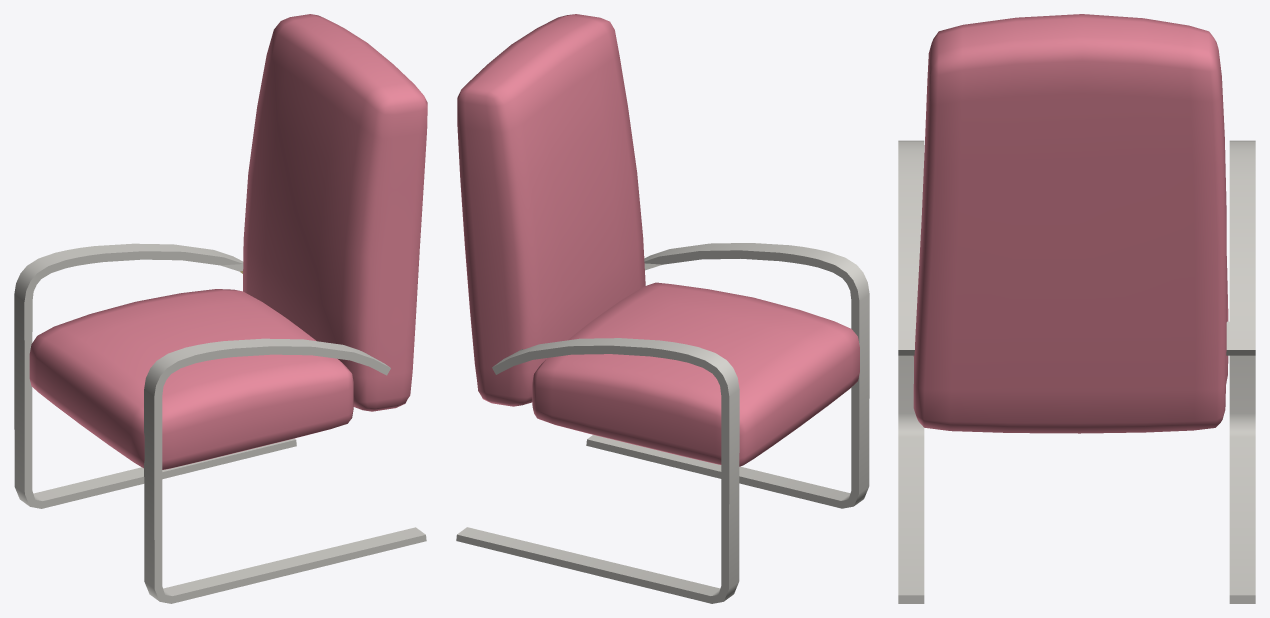
Rendered from SM_chair.fbx.
3 renders of one model, left to right at view 1: azimuth 30°, elevation 25°; view 2: azimuth 150°, elevation 25°; view 3: azimuth 270°, elevation 25°, orthographic. The views are drawn at different scales.
Visible parts, largest first — view 1: SM_chair; view 2: SM_chair; view 3: SM_chair.
Boxes of the visible parts, box(x1,y1,x2,y2) form: SM_chair: box(14, 14, 427, 603); SM_chair: box(456, 14, 869, 603); SM_chair: box(898, 14, 1255, 603).
Bounding box in the file's own units: 74.6 × 109 × 61.58.
